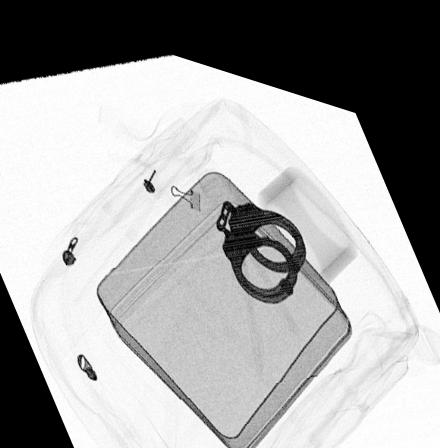HandCuffs: (214, 183, 306, 286)
